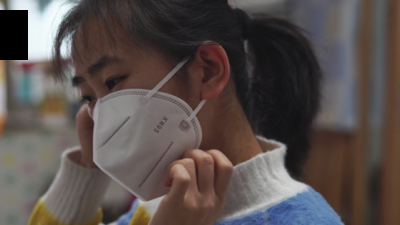with_mask: (70, 53, 204, 205)
